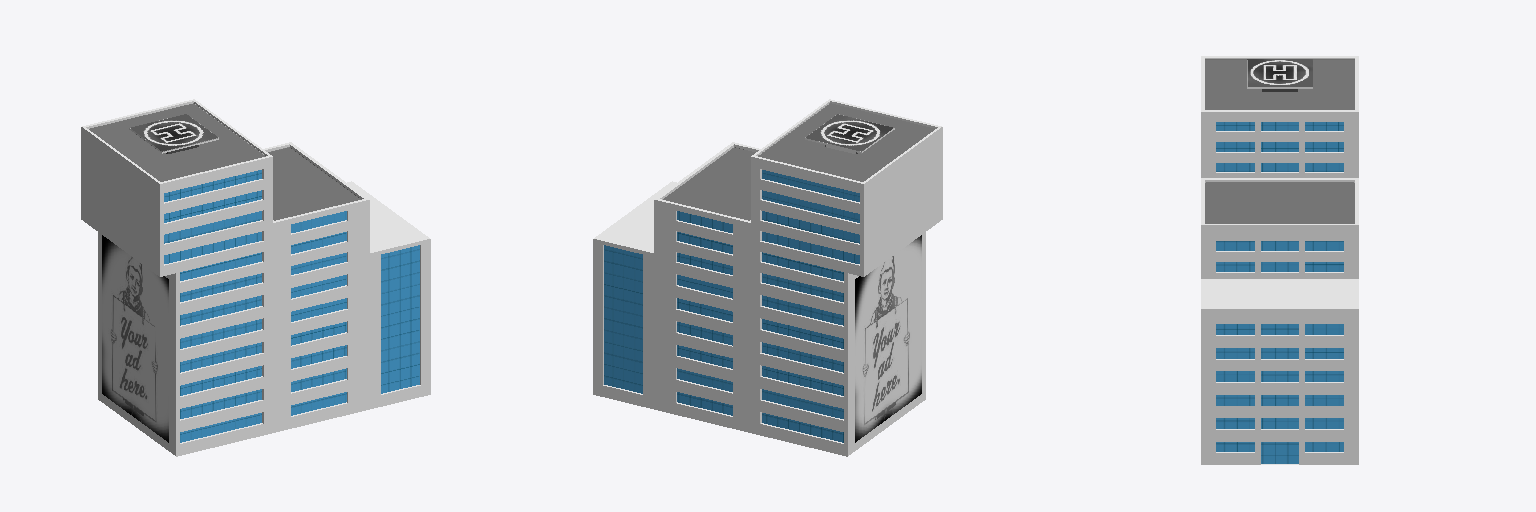
3 views of the same model, side by side, from view 1: azimuth 30°, elevation 25°; view 2: azimuth 150°, elevation 25°; view 3: azimuth 270°, elevation 25° (orthographic).
Visible parts, largest first — view 1: Main_B_Cube, Windows_Cube.001, PlaneAD_Plane, Cube_Cube.002; view 2: Main_B_Cube, Windows_Cube.001, PlaneAD_Plane, Cube_Cube.002; view 3: Main_B_Cube, Windows_Cube.001, Cube_Cube.002.
Boxes of the visible parts, box(x1,y1,x2,y2) form: Main_B_Cube: box(81, 99, 430, 456); Windows_Cube.001: box(164, 170, 419, 442); PlaneAD_Plane: box(102, 235, 168, 442); Cube_Cube.002: box(129, 114, 218, 153); Main_B_Cube: box(593, 99, 942, 456); Windows_Cube.001: box(604, 170, 859, 442); PlaneAD_Plane: box(855, 235, 921, 442); Cube_Cube.002: box(805, 114, 894, 153); Main_B_Cube: box(1201, 56, 1358, 464); Windows_Cube.001: box(1216, 122, 1343, 463); Cube_Cube.002: box(1247, 59, 1312, 91).
Size of the model in its own units: 17.69 by 17.88 by 8.9.
Materials: 1 (1 with a texture image).